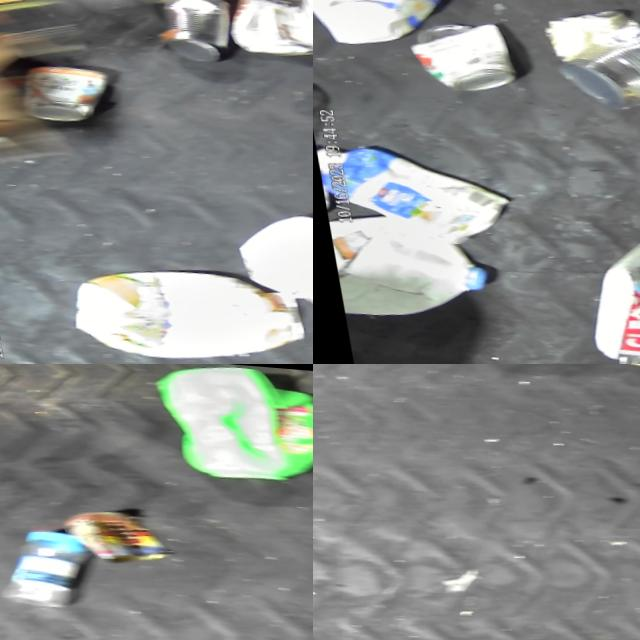can: (542, 12, 640, 114), (398, 12, 513, 97), (55, 497, 172, 567), (8, 54, 114, 127), (147, 0, 242, 65), (219, 0, 313, 58)
milk_jug: (313, 130, 509, 256), (318, 202, 487, 327)
non_white_jug: (54, 246, 301, 364), (146, 364, 313, 488)
